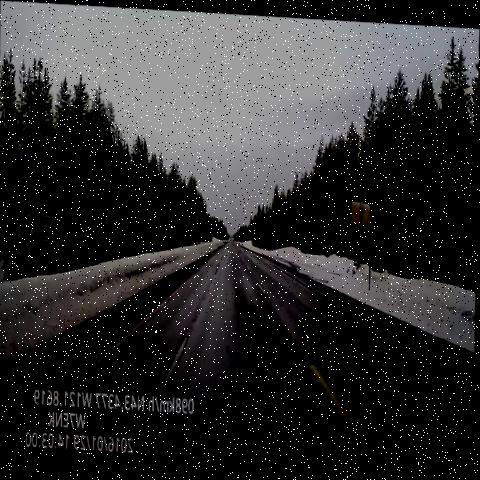pothole: (143, 305, 204, 400), (210, 232, 228, 285)
